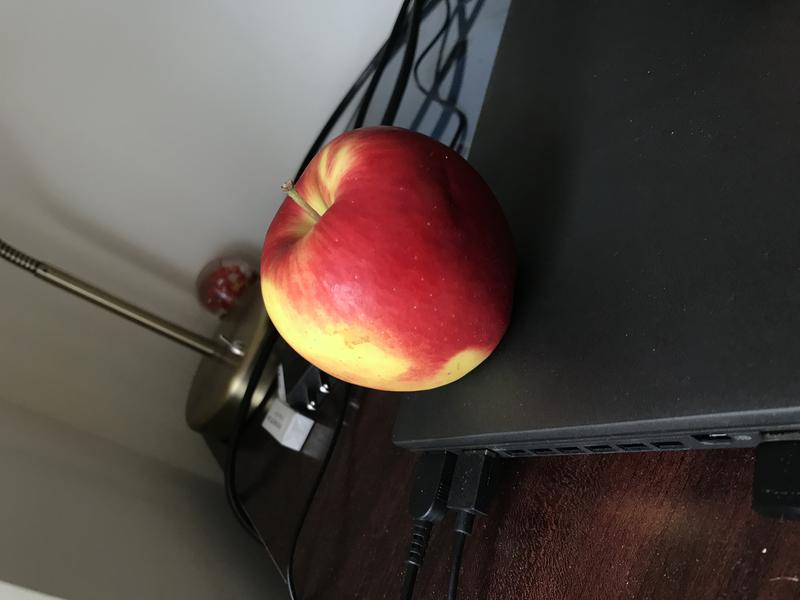red_apple: (249, 120, 526, 397)
